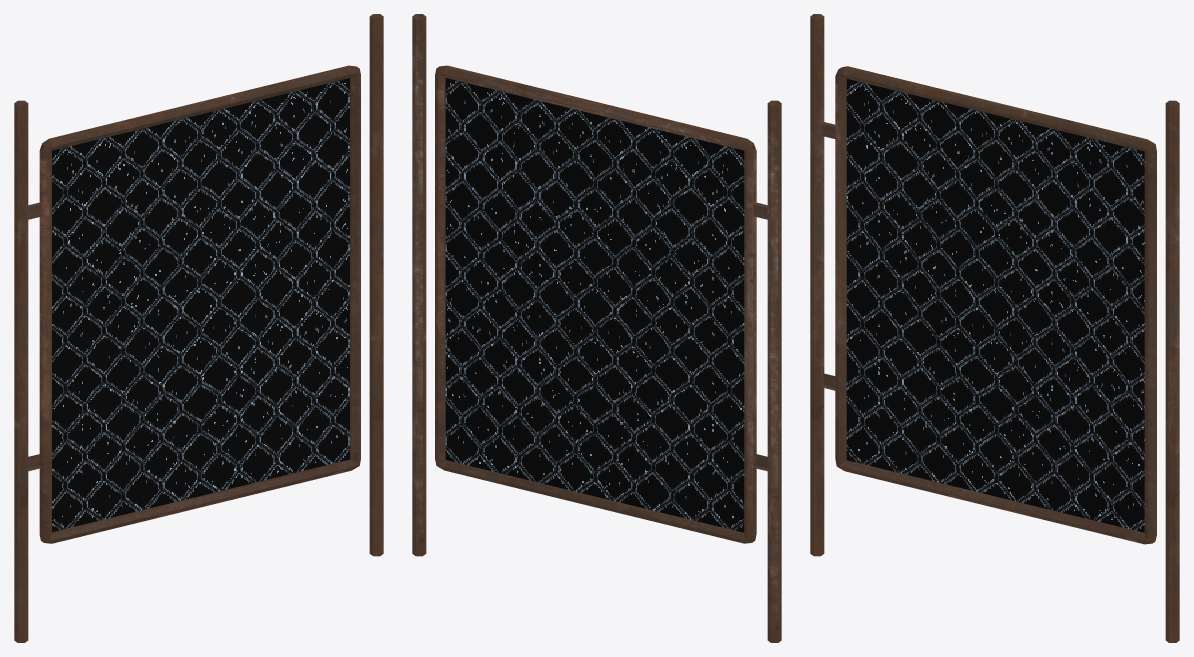
Rendered from psx_style_chain_fence_gate.glb.
The picture shows the model from 3 angles, left to right: view 1: azimuth 30°, elevation 25°; view 2: azimuth 150°, elevation 25°; view 3: azimuth 330°, elevation 25°; orthographic projection.
Parts seen in each view (by area): view 1: gate_31, frame_30; view 2: gate_31, frame_30; view 3: gate_31, frame_30.
Boxes of the visible parts, x1=… form: gate_31: x1=39, y1=65, x2=360, y2=543; frame_30: x1=14, y1=14, x2=383, y2=642; gate_31: x1=435, y1=65, x2=756, y2=543; frame_30: x1=412, y1=14, x2=781, y2=642; gate_31: x1=835, y1=66, x2=1156, y2=544; frame_30: x1=810, y1=14, x2=1179, y2=642.
Bounding box in the file's own units: 1.19 × 1.67 × 0.04.
Materials: 2 (2 with a texture image).
